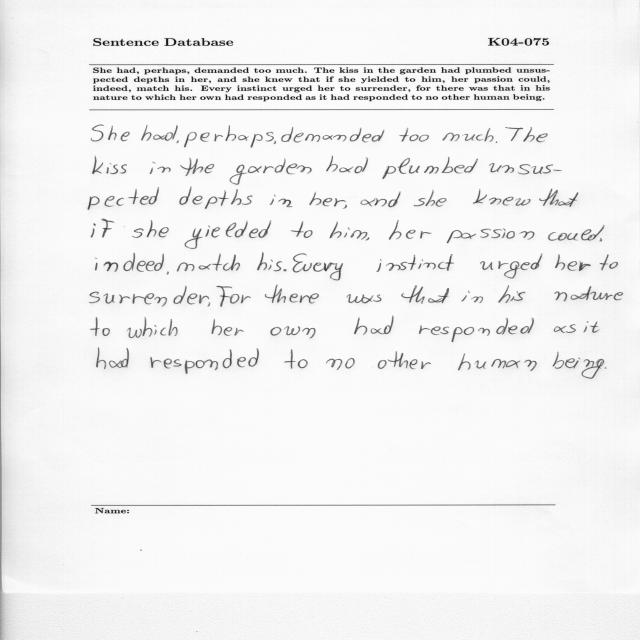word: (150, 348, 259, 374), (419, 318, 534, 342), (185, 220, 271, 249), (90, 286, 198, 307), (230, 159, 312, 185), (382, 157, 478, 179), (184, 125, 274, 147), (88, 187, 159, 210), (180, 187, 253, 209), (281, 127, 385, 142), (480, 254, 542, 279), (553, 351, 604, 379), (458, 353, 537, 371), (377, 254, 454, 272), (293, 254, 343, 281), (447, 228, 535, 243), (95, 253, 164, 272), (177, 254, 240, 272), (127, 317, 178, 338), (555, 286, 624, 301), (265, 285, 319, 304), (473, 189, 531, 206), (378, 351, 431, 369), (401, 285, 449, 304), (208, 286, 251, 307), (548, 225, 604, 241), (489, 163, 562, 174), (354, 316, 394, 335), (330, 222, 370, 240), (443, 128, 494, 142), (326, 156, 368, 173), (539, 189, 578, 207), (96, 348, 129, 369), (132, 220, 169, 238), (360, 192, 401, 208), (505, 127, 548, 142), (91, 125, 130, 141), (180, 158, 214, 176), (555, 254, 591, 271), (141, 125, 178, 141), (271, 326, 316, 339), (93, 157, 127, 174), (414, 190, 447, 207), (211, 319, 244, 336), (309, 193, 346, 207), (499, 285, 526, 303), (284, 349, 308, 369), (257, 253, 282, 272), (92, 219, 115, 238), (399, 128, 429, 142), (90, 317, 110, 336), (291, 221, 313, 238), (326, 358, 355, 370), (347, 295, 382, 304), (600, 255, 618, 271), (270, 195, 292, 207), (461, 291, 483, 303), (150, 162, 171, 174), (389, 220, 401, 240), (406, 230, 431, 239), (583, 321, 600, 333), (554, 324, 576, 333), (199, 295, 209, 304), (343, 205, 347, 209), (273, 141, 276, 145), (176, 140, 179, 143), (599, 238, 602, 241), (167, 271, 169, 275), (283, 269, 287, 271), (496, 141, 498, 143), (605, 367, 607, 369)
